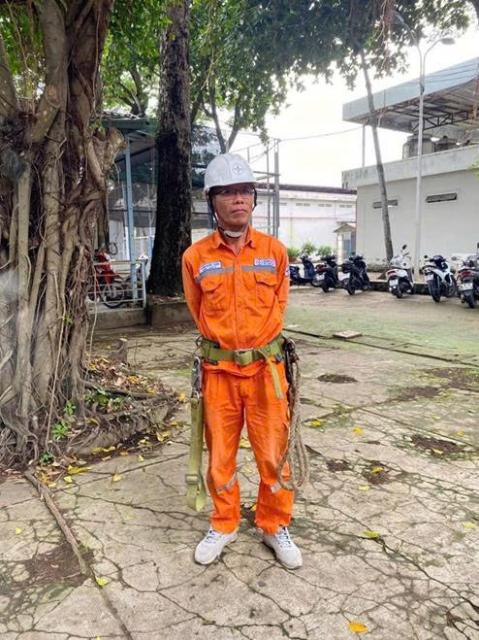harness: (188, 324, 295, 374)
helmet: (191, 141, 269, 202)
shoes: (258, 516, 317, 572), (186, 520, 240, 565)
